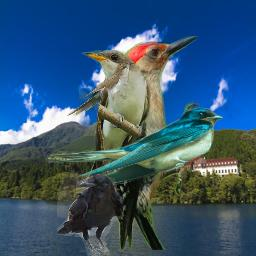Crow: (57, 174, 124, 256)
Cuckoo: (79, 50, 151, 214), (67, 62, 135, 116)
Swallow: (44, 107, 223, 188)
Woodpecker: (99, 36, 213, 250)
